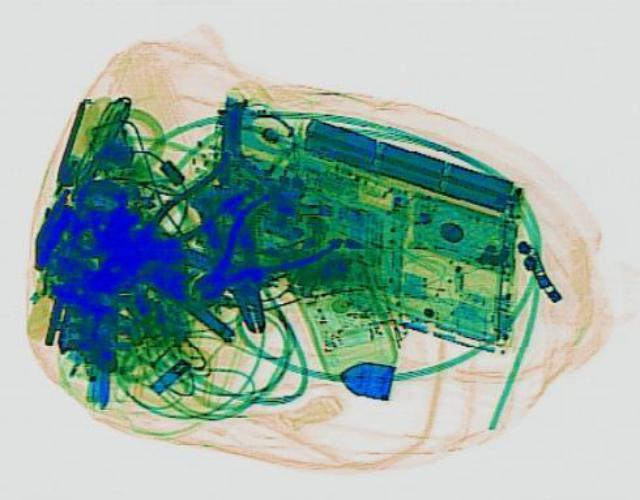Pliers: (159, 183, 347, 319), (93, 160, 260, 278), (194, 191, 278, 333)
